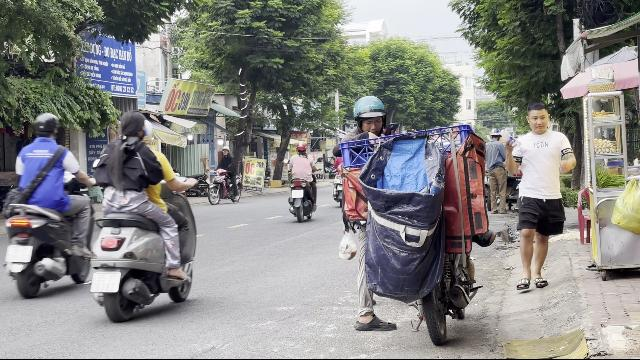helmet: (31, 111, 59, 140)
licenseplate: (91, 272, 119, 292), (5, 246, 32, 262)
motorcyclist: (86, 109, 200, 323), (0, 110, 96, 298)
nohelmet: (118, 111, 146, 141)
